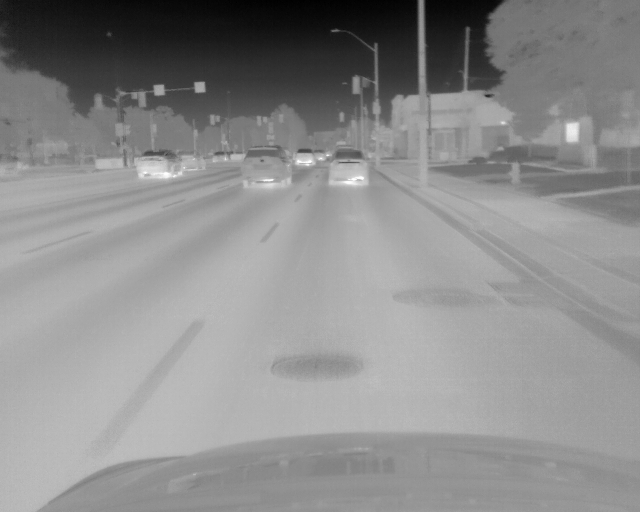car: (239, 145, 293, 187), (326, 148, 368, 188), (133, 150, 180, 180), (179, 152, 209, 171), (293, 148, 314, 169), (314, 149, 325, 163)
